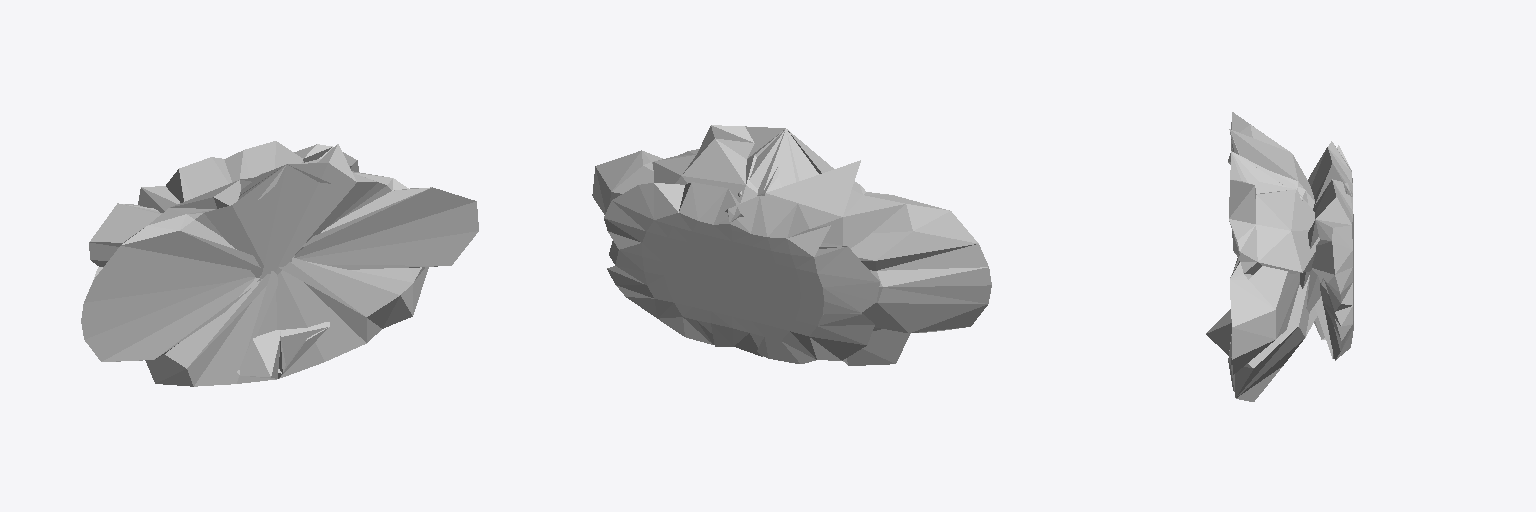
The model's file is border.obj.
3 renders of one model, left to right at view 1: azimuth 30°, elevation 25°; view 2: azimuth 150°, elevation 25°; view 3: azimuth 270°, elevation 25°, orthographic.
Visible parts, largest first — view 1: Sphere; view 2: Sphere; view 3: Sphere.
Boxes of the visible parts, box(x1,y1,x2,y2) form: Sphere: box(81, 141, 478, 386); Sphere: box(592, 125, 991, 365); Sphere: box(1206, 112, 1353, 401).
Bounding box in the file's own units: 7.73 × 4.01 × 2.5.